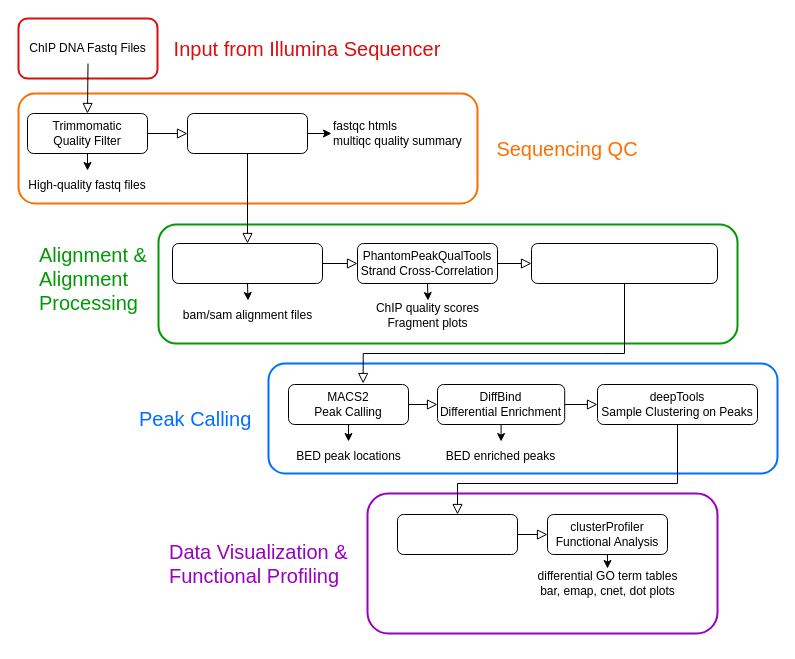
Image size: 795x659. Some labels were removed from this diagram. The centre of each missing label's shape, as x and y in pixels:
Bowtie Alignment to Reference: (247,263)
ChIPSeeker Annotation: (457,534)
deepTools Sample Clustering on Alignments: (624,263)
FastQC/MultiQC Quality Check: (247,133)
